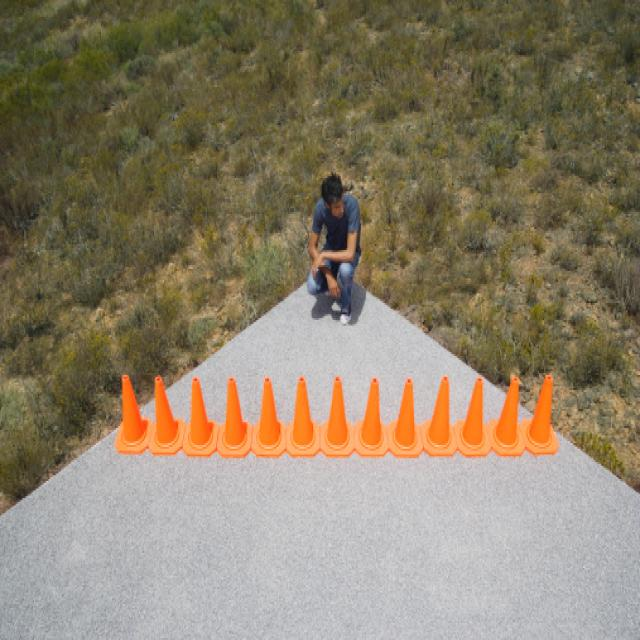cone: (145, 371, 187, 455), (520, 375, 559, 458), (419, 375, 457, 454), (248, 375, 286, 454), (351, 375, 387, 458), (217, 373, 250, 460), (321, 375, 354, 460), (115, 373, 149, 454), (286, 377, 320, 454), (489, 371, 520, 455), (458, 370, 487, 454), (183, 375, 213, 456), (390, 377, 419, 460)
